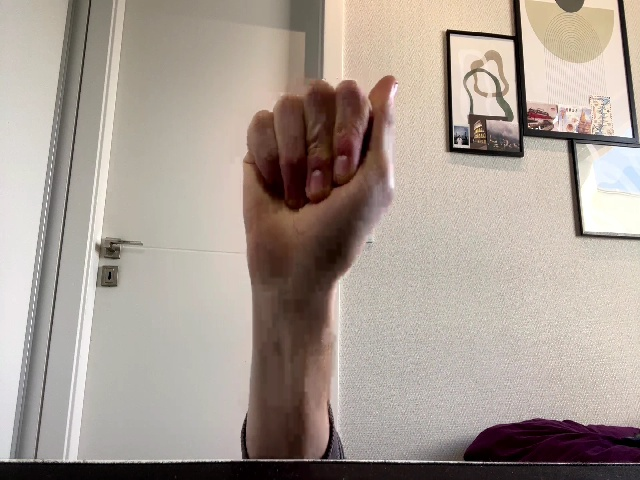A: (243, 76, 397, 286)
